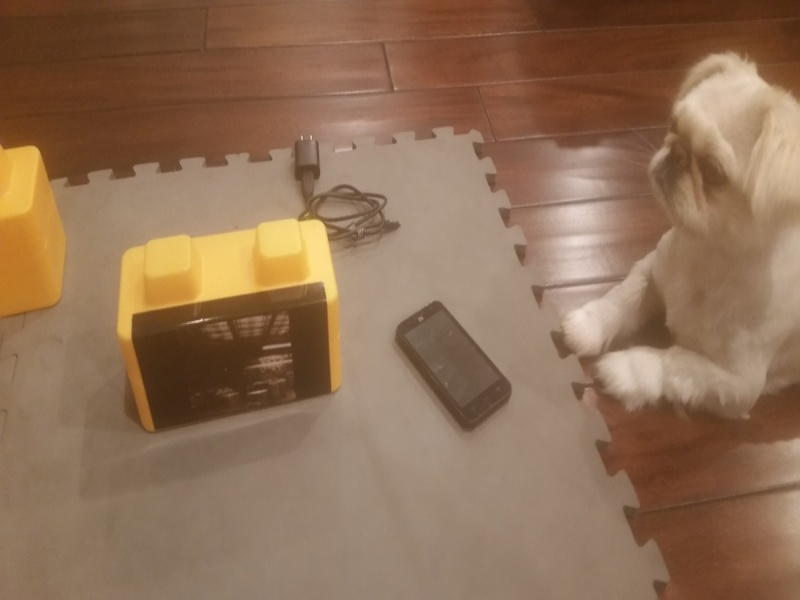Skystone: (106, 215, 344, 438)
